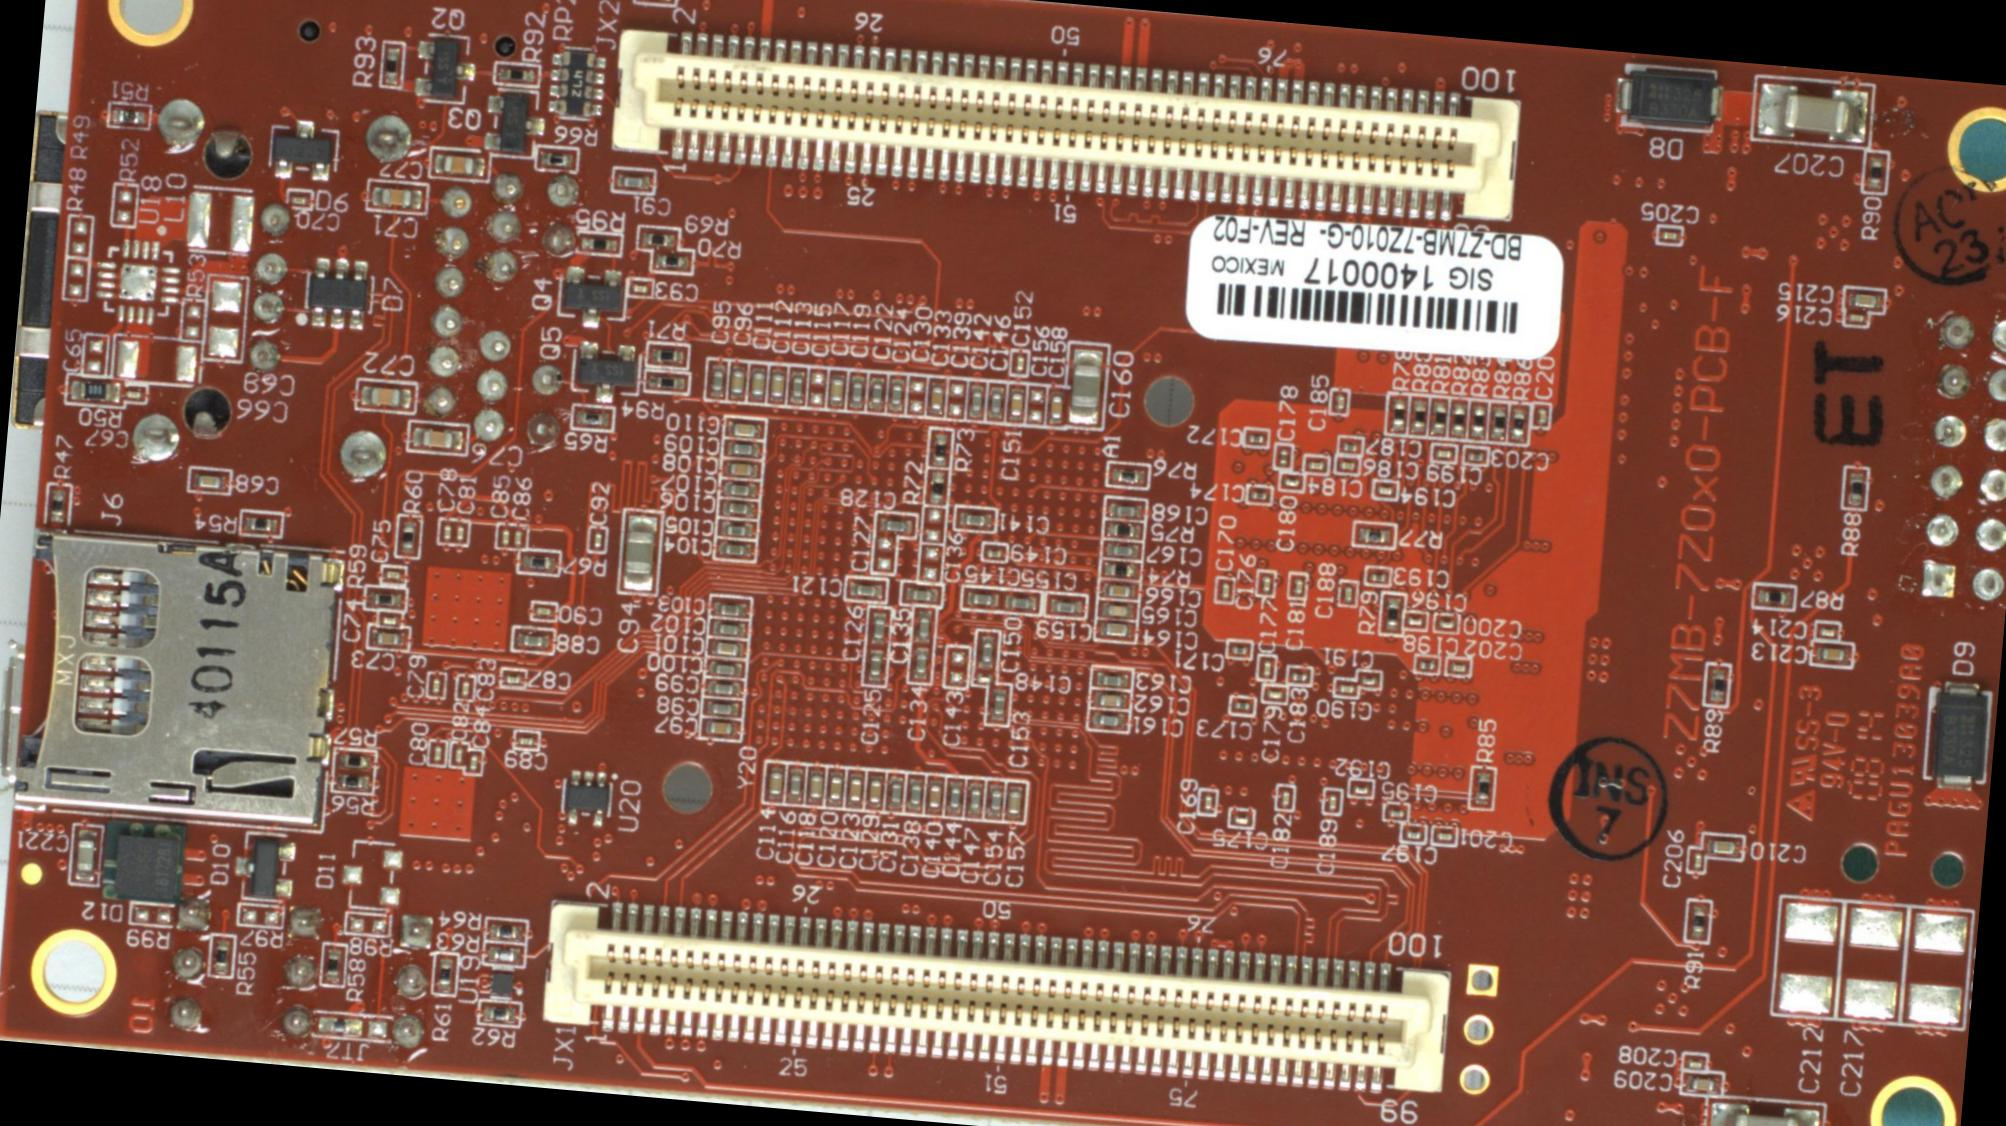Capacitor: (1754, 80, 1870, 145), (1064, 343, 1104, 426), (1703, 1098, 1821, 1125), (620, 511, 659, 591), (72, 827, 101, 882), (409, 424, 464, 452), (358, 382, 412, 409), (430, 149, 486, 175), (368, 183, 423, 208), (1681, 1074, 1722, 1093), (963, 587, 999, 609), (902, 583, 938, 605), (1002, 783, 1022, 820), (784, 765, 805, 802), (923, 777, 944, 815), (883, 775, 904, 810), (824, 770, 845, 806), (843, 772, 864, 808), (878, 514, 913, 535), (190, 471, 226, 492), (909, 644, 930, 679), (985, 781, 1004, 819), (1812, 644, 1849, 663), (912, 608, 931, 645), (705, 659, 743, 678), (705, 678, 743, 697), (515, 630, 550, 651), (944, 779, 963, 815), (904, 775, 923, 810), (963, 780, 982, 816), (765, 764, 784, 799), (803, 768, 823, 803), (864, 773, 883, 809), (1845, 291, 1881, 310), (886, 375, 905, 411), (926, 379, 945, 415), (725, 440, 761, 459), (722, 458, 758, 477), (1106, 499, 1142, 518), (722, 480, 758, 499), (719, 499, 755, 518), (1102, 540, 1138, 560), (716, 539, 752, 558), (1099, 579, 1135, 598), (1098, 600, 1134, 619), (1047, 595, 1083, 615), (1000, 593, 1036, 612), (847, 579, 883, 598), (1097, 619, 1133, 638), (710, 619, 745, 638), (975, 634, 995, 670), (1094, 670, 1130, 689), (708, 638, 744, 657), (864, 646, 883, 682), (1091, 689, 1127, 708), (369, 627, 405, 646), (1088, 710, 1124, 729), (703, 699, 738, 718), (701, 718, 737, 737), (1703, 837, 1740, 854), (613, 170, 650, 187), (727, 362, 745, 400), (956, 510, 993, 528), (716, 520, 754, 538), (988, 685, 1006, 722), (869, 611, 889, 645), (986, 383, 1004, 419), (966, 382, 984, 418), (1006, 386, 1024, 422), (1046, 389, 1064, 424), (788, 368, 806, 404), (828, 371, 846, 407), (847, 372, 865, 408), (867, 373, 885, 409), (707, 361, 725, 397), (748, 365, 766, 401), (766, 368, 784, 404), (726, 419, 762, 437), (711, 600, 747, 617), (501, 670, 522, 686), (1415, 656, 1437, 671), (1324, 792, 1339, 813), (1263, 685, 1284, 700), (1230, 697, 1251, 713), (1200, 791, 1214, 813), (1814, 624, 1837, 638), (1230, 810, 1250, 826), (1465, 448, 1484, 463), (984, 544, 1003, 560), (1258, 575, 1273, 594), (1339, 584, 1354, 604), (1448, 659, 1467, 674), (1433, 828, 1454, 842), (1374, 484, 1394, 498), (590, 529, 603, 550), (459, 522, 473, 543), (1436, 616, 1456, 630), (1288, 668, 1309, 682), (1365, 569, 1387, 582), (123, 386, 141, 401), (533, 604, 551, 619), (515, 733, 535, 747), (430, 743, 444, 762), (1245, 431, 1265, 445), (1290, 576, 1303, 595), (440, 522, 453, 542), (1350, 781, 1369, 795), (1279, 787, 1291, 808), (451, 744, 463, 765), (1013, 351, 1025, 372), (1334, 681, 1354, 693), (1341, 438, 1357, 453), (1386, 805, 1404, 819), (466, 753, 479, 770), (1659, 227, 1677, 241), (1217, 582, 1230, 600), (1403, 615, 1425, 626), (1261, 656, 1272, 678), (1332, 391, 1345, 411), (1433, 447, 1452, 459), (1248, 488, 1268, 500), (1229, 644, 1248, 656), (428, 675, 441, 695), (1690, 849, 1702, 870), (1403, 827, 1420, 839), (1685, 1057, 1703, 1069), (1535, 407, 1547, 424), (499, 528, 511, 546), (1358, 673, 1376, 685), (379, 613, 397, 626), (511, 528, 522, 547), (1846, 311, 1864, 323), (630, 283, 648, 294), (1306, 459, 1324, 470), (1281, 475, 1299, 487), (383, 569, 401, 580), (459, 678, 470, 696), (975, 673, 991, 685), (289, 194, 307, 204), (1277, 447, 1287, 464), (1341, 459, 1356, 470)
Connector: (540, 888, 1452, 1104), (606, 19, 1521, 232), (7, 521, 349, 837), (1452, 959, 1502, 1101)
Diode: (1919, 678, 1996, 792), (1611, 61, 1725, 136), (265, 116, 340, 185), (300, 254, 369, 329), (230, 830, 296, 904), (112, 831, 179, 901)
IC: (557, 766, 613, 827), (486, 966, 518, 999)
Jumper: (316, 1014, 389, 1038)
Pads: (90, 236, 182, 328), (1903, 908, 1970, 1028), (1773, 900, 1841, 1017), (1838, 905, 1904, 1021), (342, 837, 405, 917), (183, 187, 256, 254), (112, 338, 198, 383), (203, 277, 244, 358), (238, 904, 281, 926), (945, 648, 967, 685), (131, 905, 171, 925), (180, 302, 201, 339), (945, 379, 964, 418), (113, 186, 134, 222), (873, 535, 894, 571), (920, 544, 941, 580), (69, 216, 88, 254), (1026, 386, 1046, 423), (346, 915, 386, 933), (84, 338, 103, 373), (66, 260, 84, 296), (807, 369, 825, 405), (923, 507, 941, 543), (907, 378, 923, 413)
Pins: (413, 163, 528, 442), (1914, 307, 2005, 606), (244, 203, 292, 376), (387, 910, 434, 1050), (165, 894, 212, 1035), (277, 904, 324, 1043), (522, 360, 565, 448), (153, 90, 209, 153), (539, 171, 579, 256), (333, 424, 389, 482), (128, 407, 182, 464), (361, 112, 415, 163)
Resistor Jumper: (547, 44, 605, 121)
Resistor Network: (68, 376, 123, 404), (45, 485, 68, 525), (431, 956, 455, 994), (479, 1002, 517, 1025), (1353, 525, 1392, 547), (1506, 405, 1528, 442), (497, 65, 537, 84), (577, 233, 617, 252), (321, 945, 342, 983), (1381, 595, 1401, 633), (519, 550, 557, 571), (1471, 769, 1492, 806), (484, 944, 522, 963), (211, 937, 230, 976), (335, 770, 371, 791), (110, 103, 146, 124), (649, 346, 685, 367), (1845, 469, 1865, 504), (397, 518, 417, 554), (1864, 153, 1883, 190), (1448, 400, 1467, 437), (382, 44, 400, 84), (639, 229, 675, 248), (1427, 400, 1447, 436), (573, 408, 609, 427), (1109, 466, 1145, 485), (366, 588, 402, 608), (653, 249, 686, 270), (645, 373, 686, 390), (536, 149, 573, 167), (1467, 400, 1485, 437), (1754, 587, 1791, 605), (241, 514, 278, 532), (1707, 667, 1725, 704), (336, 751, 371, 770), (926, 469, 945, 503), (486, 922, 522, 940), (1487, 404, 1504, 440), (930, 430, 948, 466), (1105, 521, 1141, 539), (1688, 905, 1707, 939), (1389, 397, 1407, 431), (1408, 398, 1426, 433), (1101, 561, 1137, 577), (637, 0, 675, 6)
Transistor: (566, 338, 643, 405), (412, 30, 478, 106), (479, 87, 546, 160), (555, 262, 623, 328)
